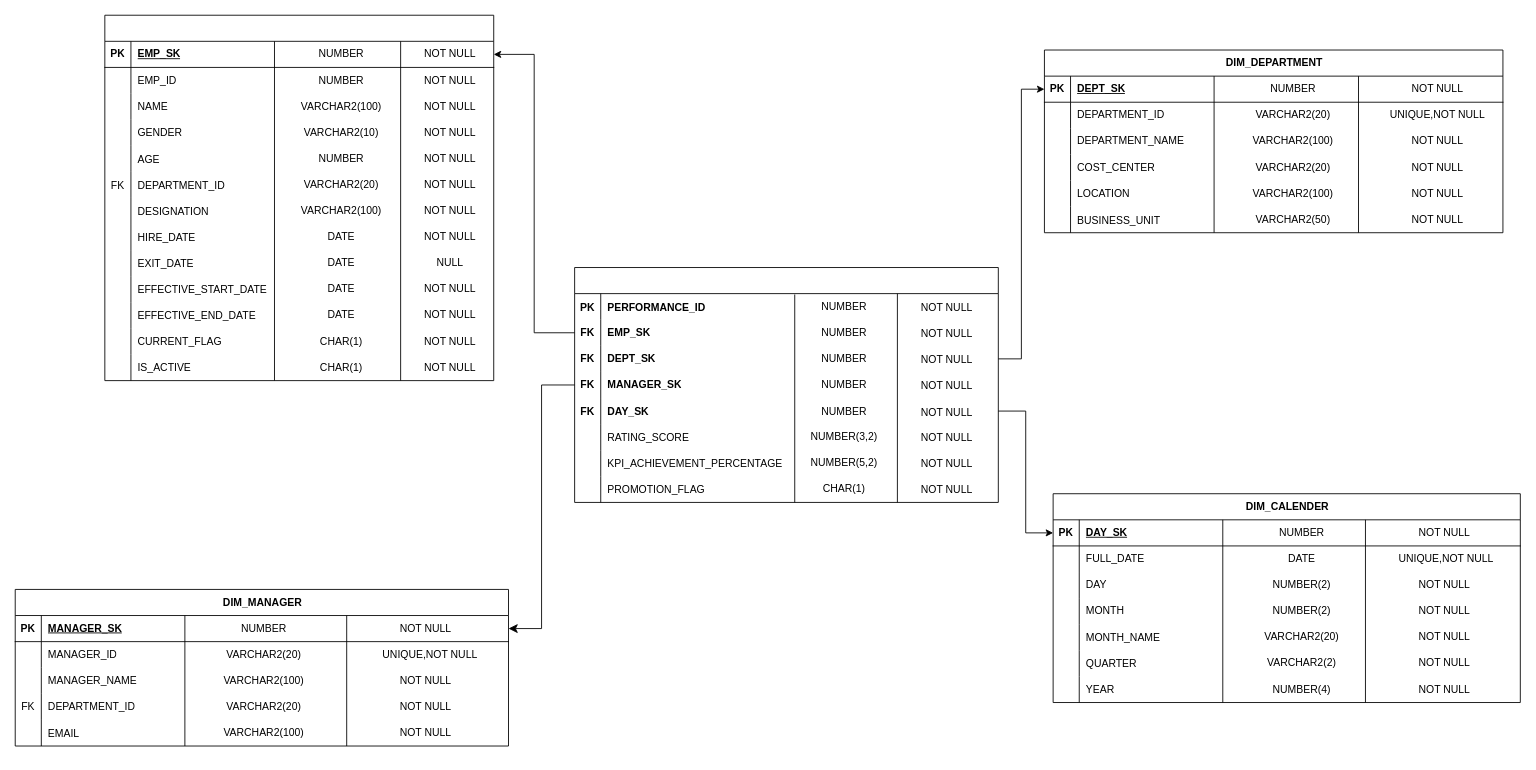
The diagram is 1536 pixels wide and 770 high, and some of its shapes have lost their labels. The shapes that lost their labels are listed below. From the top down, each one's box as (x1, y1, x2, y2) in pixels, then its label:
(104, 14, 494, 381): DIM_EMPLOYEE
(574, 267, 998, 502): FACT_PERFORMANCE
